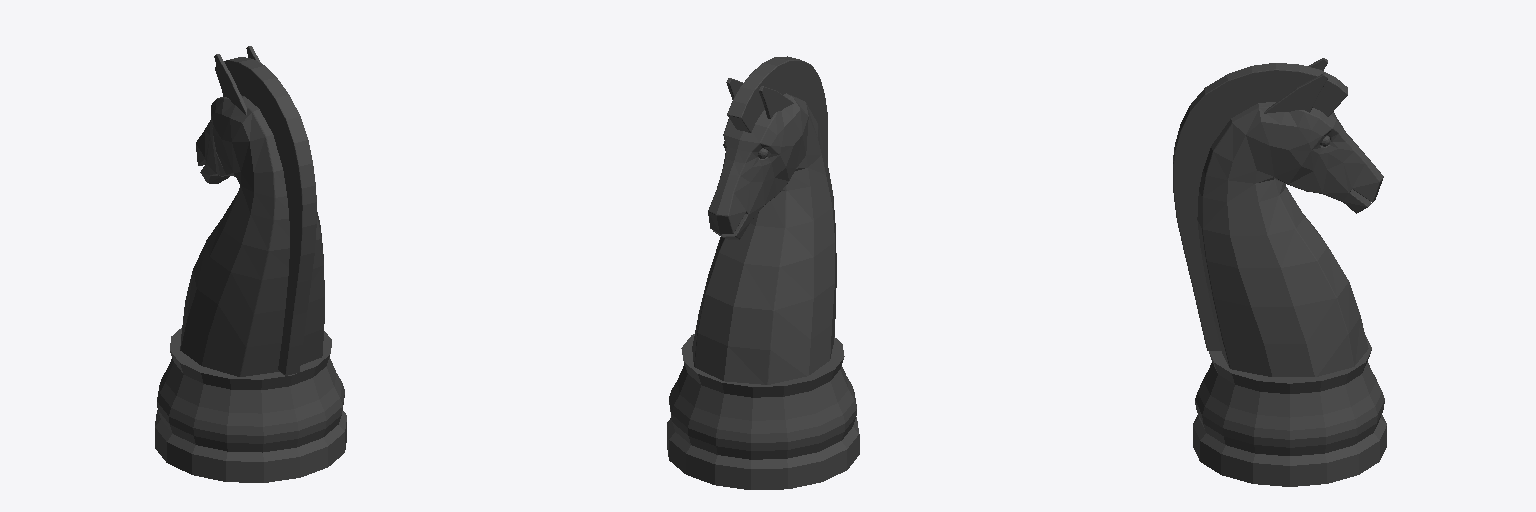
3 renders of one model, left to right at view 1: azimuth 30°, elevation 25°; view 2: azimuth 150°, elevation 25°; view 3: azimuth 270°, elevation 25°, orthographic.
Parts seen in each view (by area): view 1: _Horse1; view 2: _Horse1; view 3: _Horse1.
Part boxes in pixels (bbox=[...]): _Horse1: bbox=[155, 46, 346, 482]; _Horse1: bbox=[667, 56, 859, 489]; _Horse1: bbox=[1173, 58, 1386, 486].
Bounding box in the file's own units: 2.76 × 5.94 × 3.04.